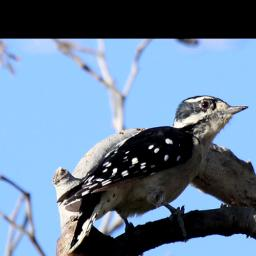Woodpecker: (54, 93, 253, 253)
